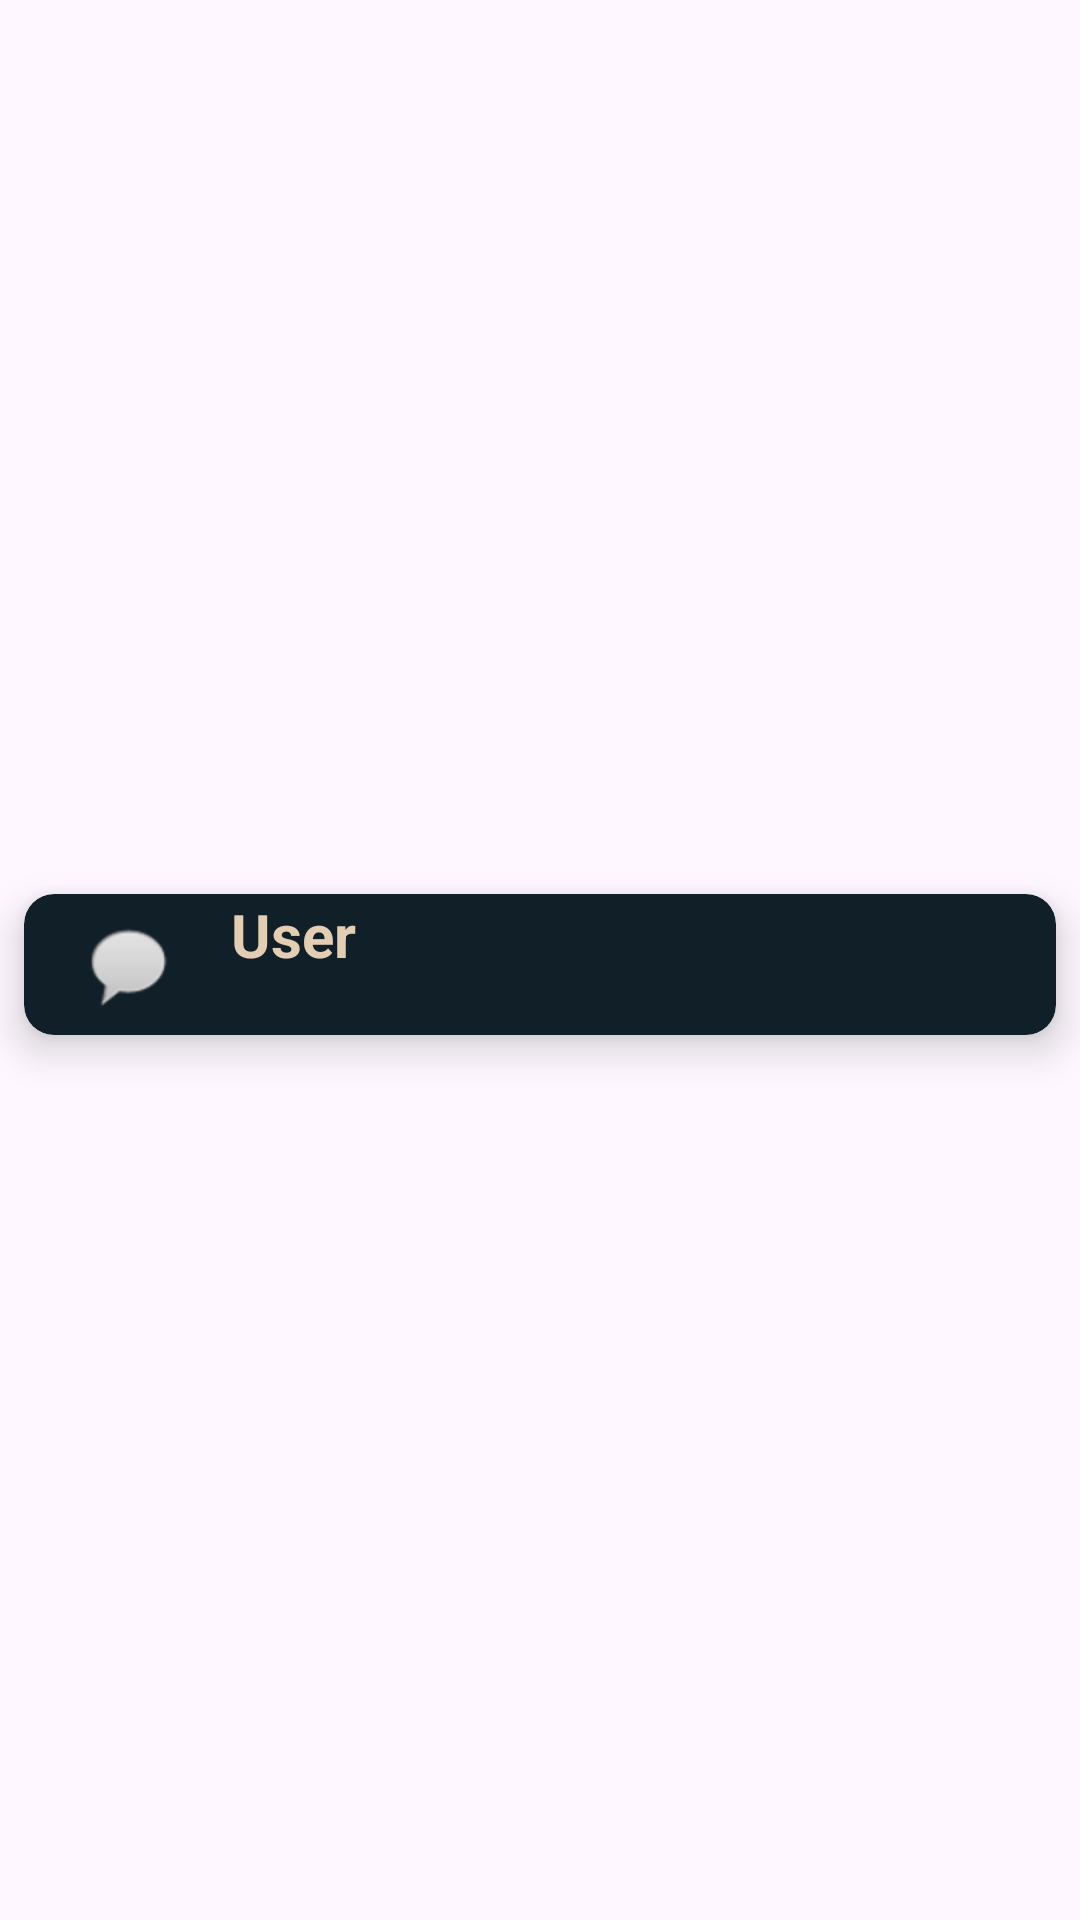

Locate icon controls on the screen. Image size 1080px x 1920px, boxes as (x1,y1,x2,y2).
sym action chat: (91,929,166,1005)
